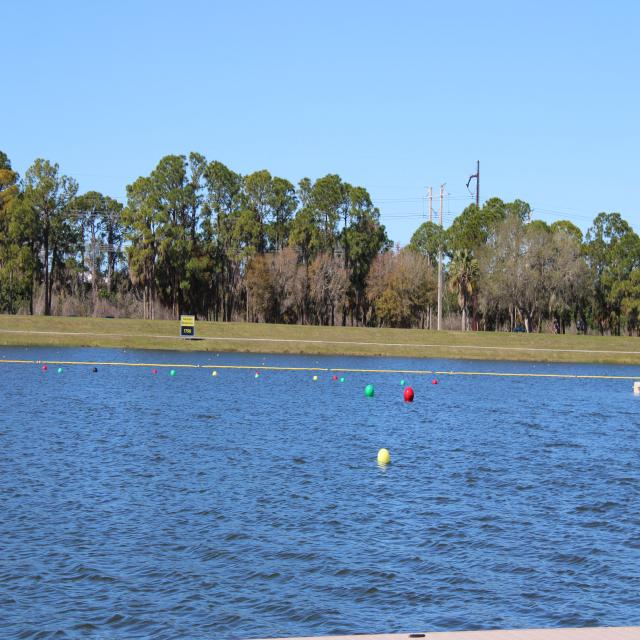green-buoy: (365, 385, 373, 398), (171, 369, 177, 376), (400, 380, 405, 387), (60, 366, 64, 373)
red-buoy: (406, 385, 416, 400), (432, 380, 437, 386), (152, 368, 156, 373)
yellow-buoy: (378, 448, 392, 466), (212, 370, 218, 376), (313, 376, 319, 382)
